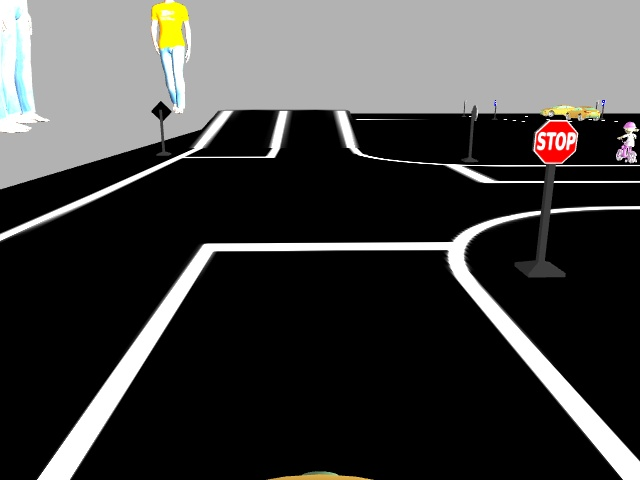Pedestrian: (610, 119, 639, 164)
Stop: (528, 118, 579, 163)
